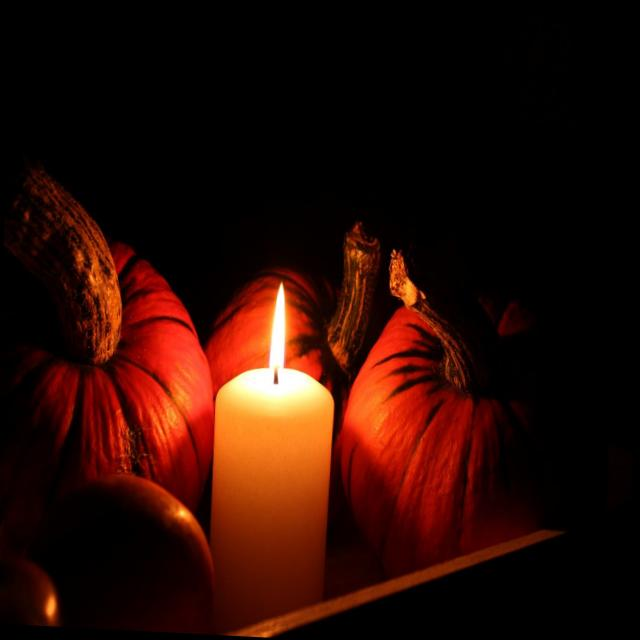Fire_Save: (0, 161, 571, 640), (330, 244, 556, 586), (202, 275, 342, 636)
